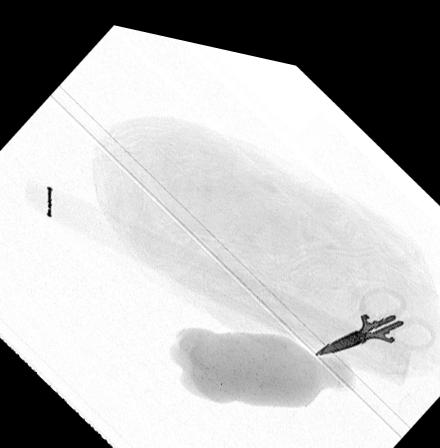Scissors: (311, 268, 437, 342)
